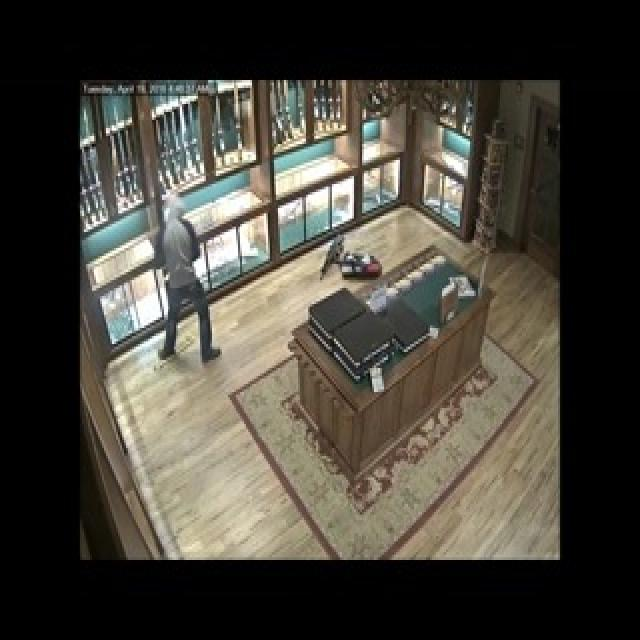thief: (139, 188, 221, 372)
